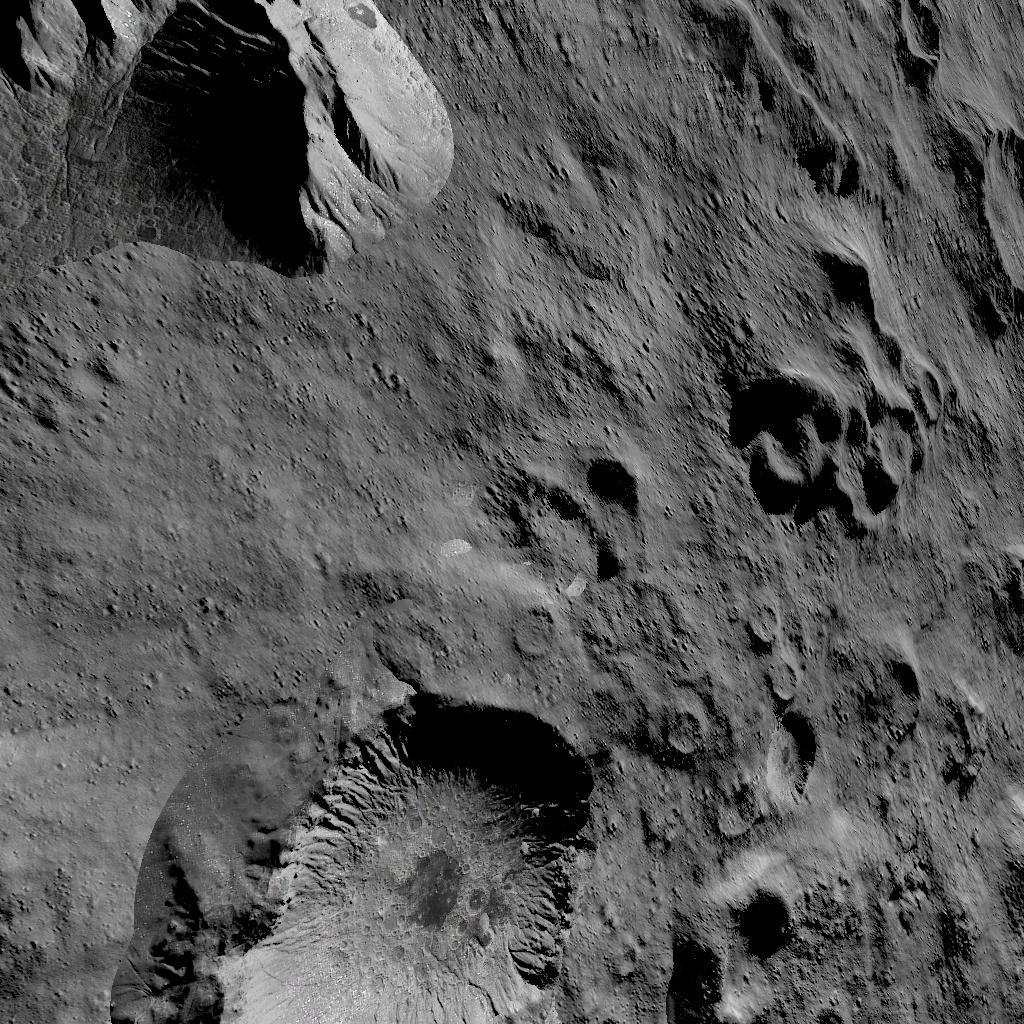Boulders: (0, 0, 458, 313)
Crater: (117, 691, 624, 1024), (723, 348, 954, 537), (659, 850, 828, 1024), (493, 452, 653, 585), (737, 596, 828, 812), (957, 108, 1024, 334), (853, 652, 935, 753), (883, 0, 957, 81), (803, 244, 880, 316), (507, 598, 560, 662), (651, 704, 711, 760)
Plan surface: (3, 320, 482, 680), (491, 0, 714, 446)
